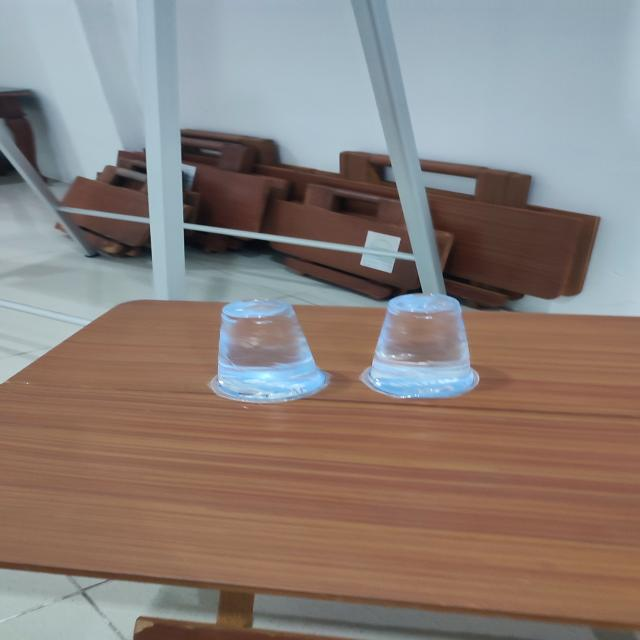air gelas: (193, 298, 347, 403), (355, 292, 493, 399)
